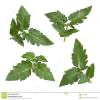Tomato leaf: (5, 58, 33, 85), (23, 27, 57, 49), (71, 37, 90, 73), (68, 4, 97, 27), (33, 61, 58, 84), (14, 3, 33, 31), (42, 9, 68, 28)
